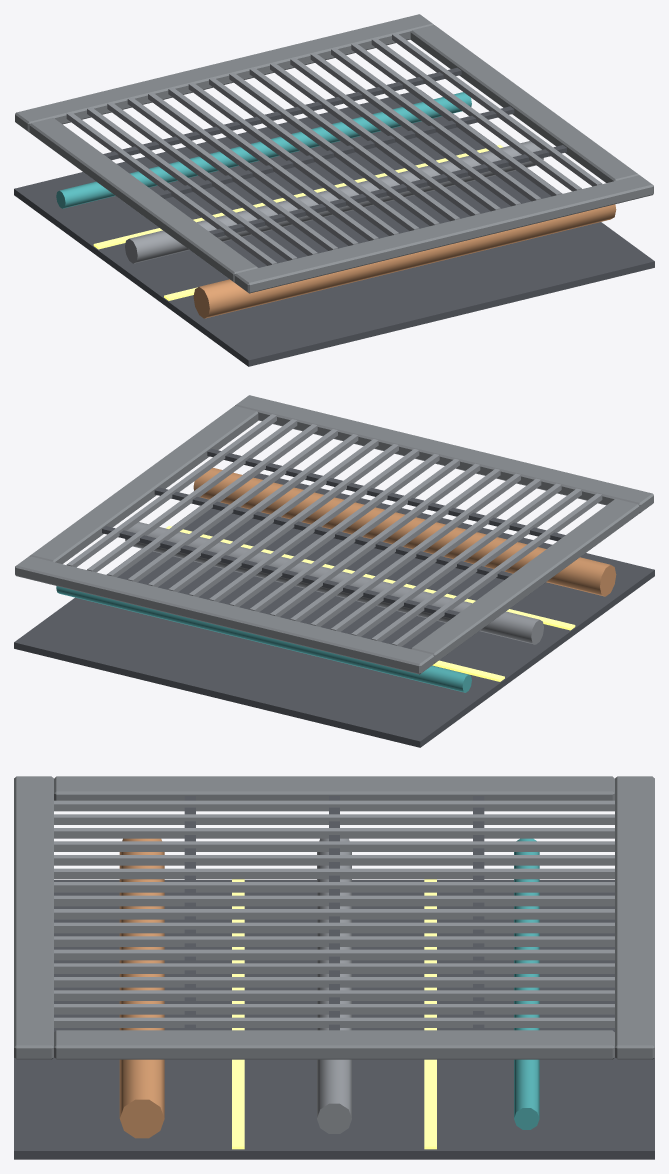
The model's file is floor_grate.glb.
The picture shows the model from 3 angles, top to bottom: view 1: azimuth 30°, elevation 25°; view 2: azimuth 150°, elevation 25°; view 3: azimuth 270°, elevation 25°; orthographic projection. The views are drawn at different scales.
Visible parts, largest first — view 1: floor_grate; view 2: floor_grate; view 3: floor_grate.
Part boxes in pixels (x1,y1,x2,y2): floor_grate: (14, 14, 654, 366); floor_grate: (14, 395, 654, 747); floor_grate: (14, 776, 654, 1159).
Bounding box in the file's own units: 4 × 0.78 × 4.
